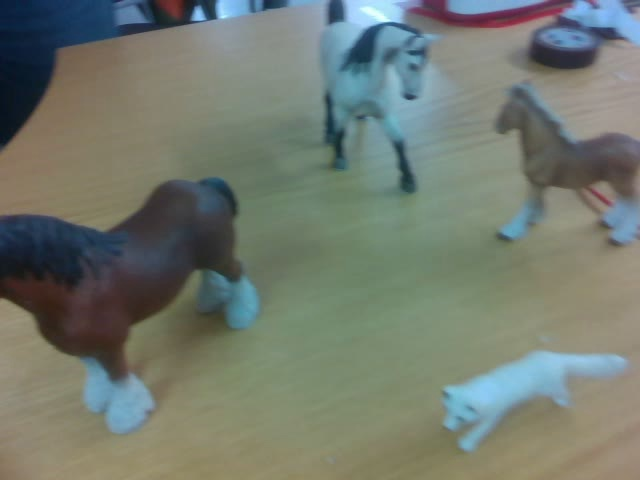toy: (300, 1, 444, 193), (491, 77, 640, 248), (440, 348, 628, 453)
